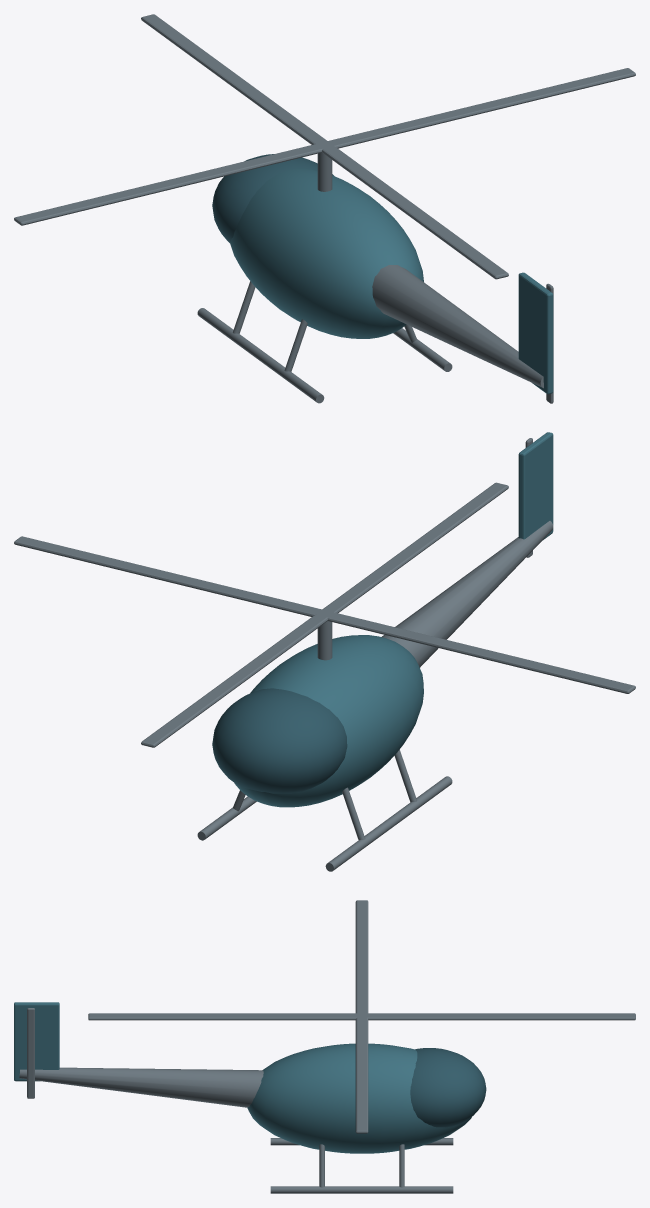
Rendered from Heron_Helicopter.fbx.
3 renders of one model, top to bottom at view 1: azimuth 30°, elevation 25°; view 2: azimuth 150°, elevation 25°; view 3: azimuth 270°, elevation 25°, orthographic. The views are drawn at different scales.
Visible parts, largest first — view 1: Body.012, Rotor_Main; view 2: Body.012, Rotor_Main; view 3: Body.012, Rotor_Main, Rotor_Tail.
Part boxes in pixels (x1,y1,x2,y2): Body.012: (197,152,553,403); Rotor_Main: (14,14,635,279); Body.012: (197,432,553,871); Rotor_Main: (14,482,635,747); Body.012: (14,1002,486,1193); Rotor_Main: (88,900,635,1133); Rotor_Tail: (27,1008,34,1098).
Size of the model in its own units: 9.6 by 3.22 by 10.9.
